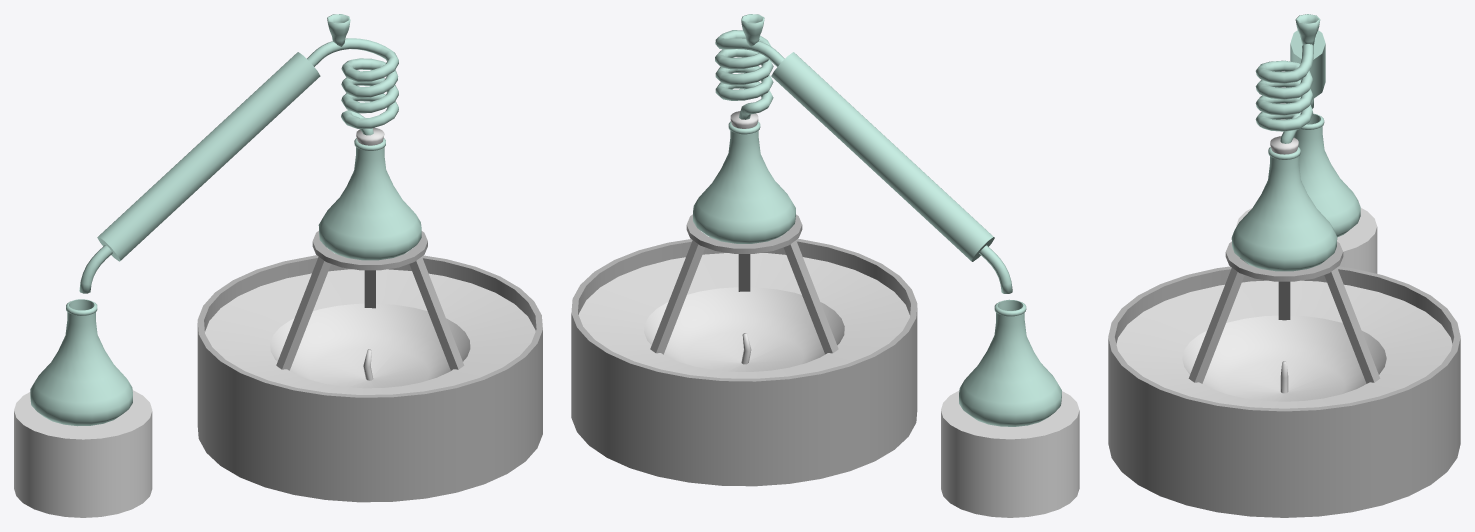
Rendered from Chemielabor.fbx.
3 views of the same model, side by side, from view 1: azimuth 30°, elevation 25°; view 2: azimuth 150°, elevation 25°; view 3: azimuth 270°, elevation 25° (orthographic).
Visible parts, largest first — view 1: Chemielabor; view 2: Chemielabor; view 3: Chemielabor.
Part boxes in pixels (bbox=[...]): Chemielabor: bbox=[14, 14, 542, 517]; Chemielabor: bbox=[571, 14, 1079, 517]; Chemielabor: bbox=[1108, 14, 1460, 517].
Bounding box in the file's own units: 973 × 778 × 600.
